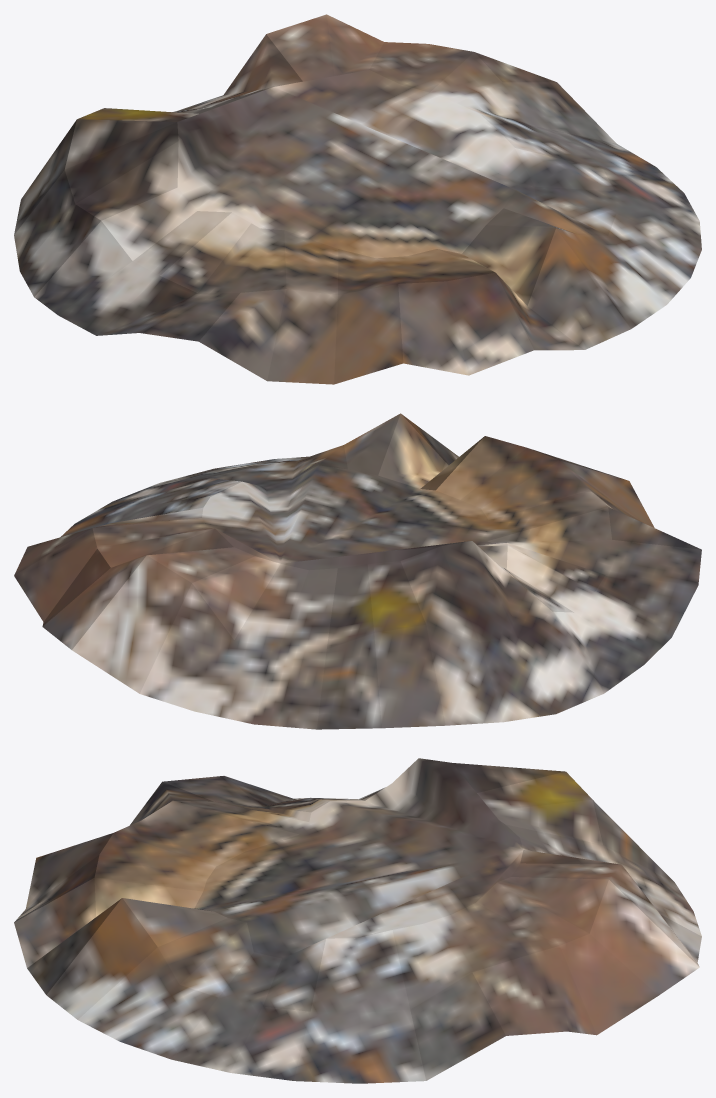
The model's file is TrashPile.fbx.
The picture shows the model from 3 angles, top to bottom: view 1: azimuth 30°, elevation 25°; view 2: azimuth 150°, elevation 25°; view 3: azimuth 270°, elevation 25°; orthographic projection. The views are drawn at different scales.
Parts seen in each view (by area): view 1: TrashPile; view 2: TrashPile; view 3: TrashPile.
Part boxes in pixels (x1,y1,x2,y2): TrashPile: (14, 14, 701, 384); TrashPile: (14, 413, 701, 729); TrashPile: (14, 758, 701, 1083).
Size of the model in its own units: 951 by 196 by 965.
